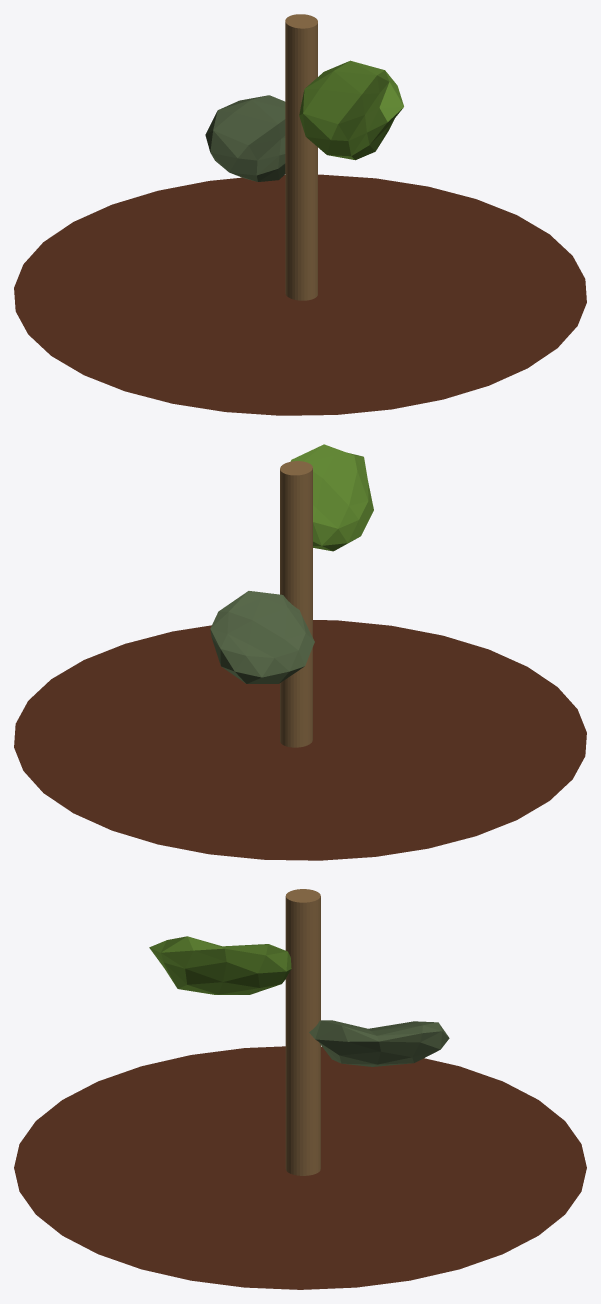
File: potted_plant_small.glb
The picture shows the model from 3 angles, top to bottom: view 1: azimuth 30°, elevation 25°; view 2: azimuth 150°, elevation 25°; view 3: azimuth 270°, elevation 25°; orthographic projection.
Visible parts, largest first — view 1: Circle, Cylinder, Icosphere, Icosphere.001; view 2: Circle, Cylinder, Icosphere.001, Icosphere; view 3: Circle, Cylinder, Icosphere, Icosphere.001.
Boxes of the visible parts, box(x1,y1,x2,y2) form: Circle: box(14, 174, 586, 415); Cylinder: box(285, 14, 317, 300); Icosphere: box(299, 60, 403, 160); Icosphere.001: box(205, 95, 285, 181); Circle: box(14, 620, 586, 860); Cylinder: box(280, 461, 312, 747); Icosphere.001: box(210, 591, 314, 683); Icosphere: box(290, 444, 373, 551); Circle: box(14, 1046, 586, 1289); Cylinder: box(285, 889, 320, 1175); Icosphere: box(149, 936, 291, 994); Icosphere.001: box(309, 1020, 449, 1066).
Size of the model in its own units: 5.74 by 3.02 by 5.69.
